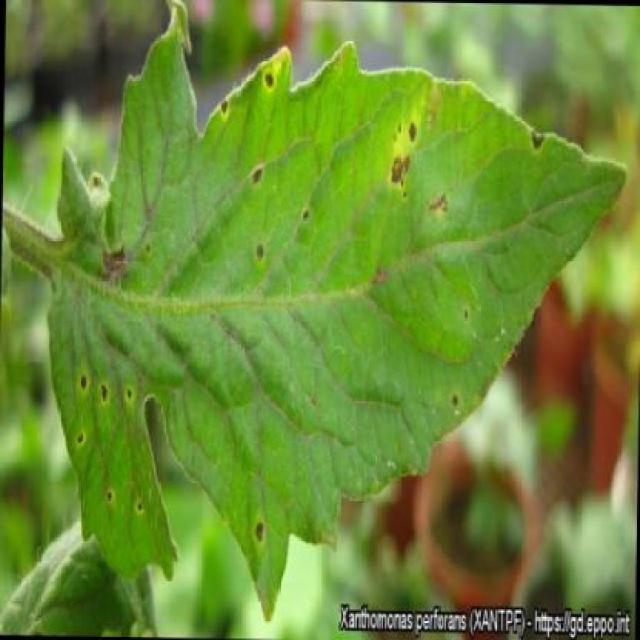Tomato leaf bacterial spot: (40, 31, 626, 595)
